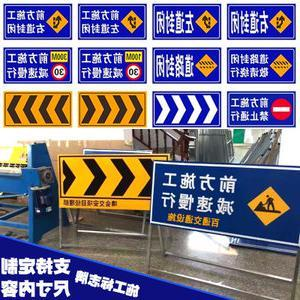sign: (150, 162, 298, 238), (58, 154, 148, 209), (79, 47, 149, 82), (2, 4, 72, 38), (79, 4, 146, 39), (154, 4, 221, 39), (228, 48, 295, 83), (153, 48, 221, 82), (153, 92, 221, 126), (228, 92, 295, 126), (5, 48, 72, 82), (4, 93, 71, 127), (79, 92, 145, 126), (228, 5, 295, 38)
